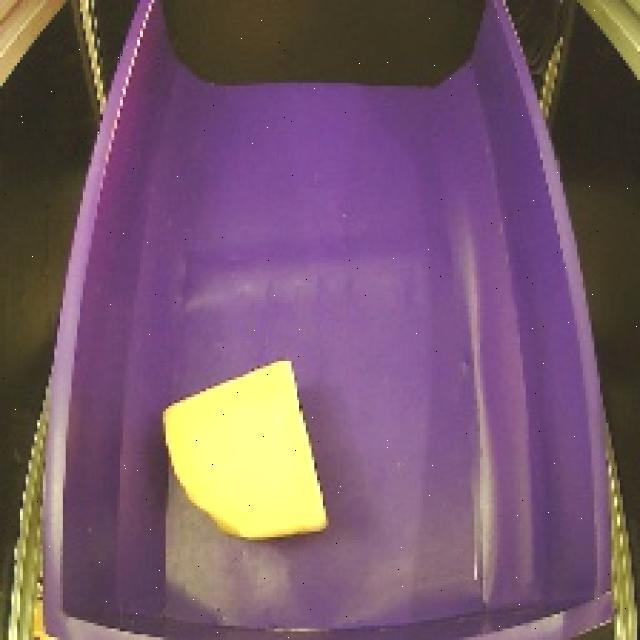potato: (156, 354, 341, 549)
